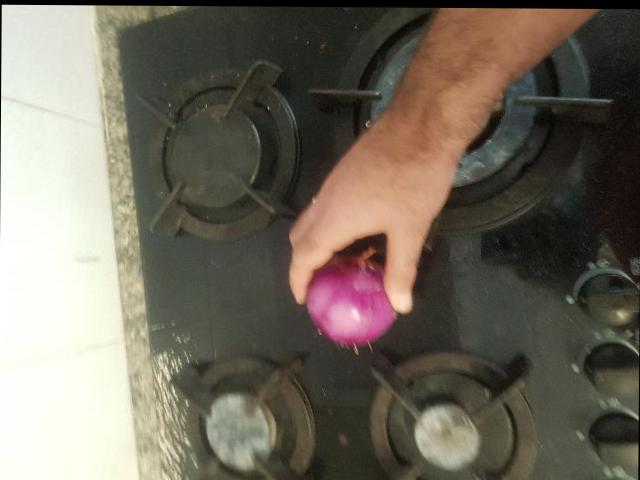onion: (302, 251, 393, 333)
